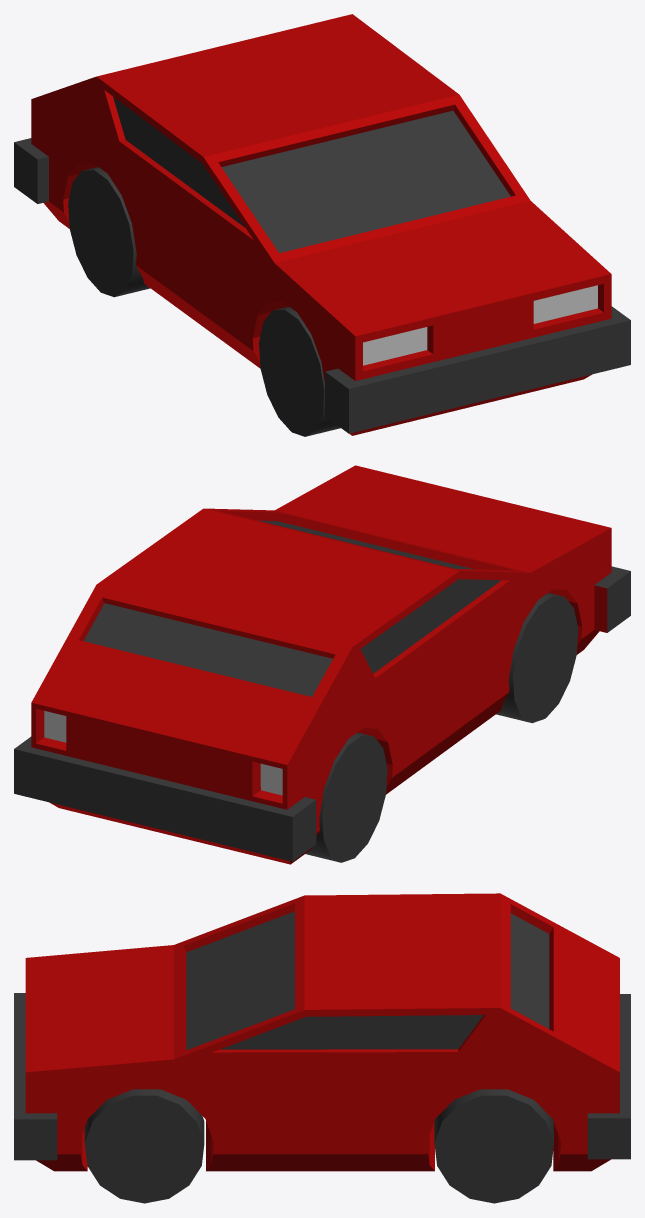
File: car.fbx
3 renders of one model, top to bottom at view 1: azimuth 30°, elevation 25°; view 2: azimuth 150°, elevation 25°; view 3: azimuth 270°, elevation 25°, orthographic. The views are drawn at different scales.
Parts seen in each view (by area): view 1: car_Body, Cylinder_2, Cylinder_1; view 2: car_Body, Cylinder_1, Cylinder_2; view 3: car_Body, Cylinder_3, Cylinder.
Part boxes in pixels (box(x1,y1,x2,y2)): car_Body: box(14, 14, 630, 435); Cylinder_2: box(68, 167, 150, 297); Cylinder_1: box(259, 306, 340, 436); car_Body: box(14, 465, 630, 864); Cylinder_1: box(496, 593, 578, 723); Cylinder_2: box(305, 732, 387, 862); car_Body: box(14, 893, 630, 1171); Cylinder_3: box(434, 1089, 553, 1203); Cylinder: box(84, 1089, 204, 1203).
Size of the model in its own units: 220 by 160 by 456.
